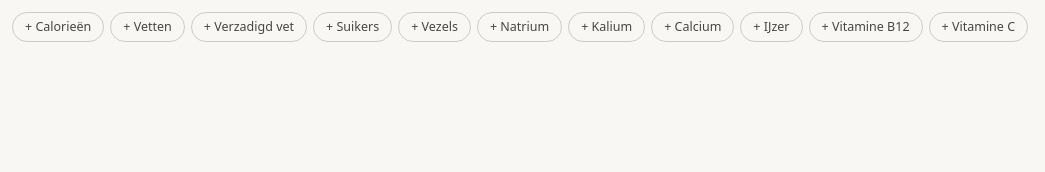
GevolgdeStoffenKiezer › springt terug en toont de fout als opslaan mislukt
The width and height of the screenshot is (1045, 172).
Step 1. Click the button "+ Vezels" → click(435, 27), box [398,12,471,42]
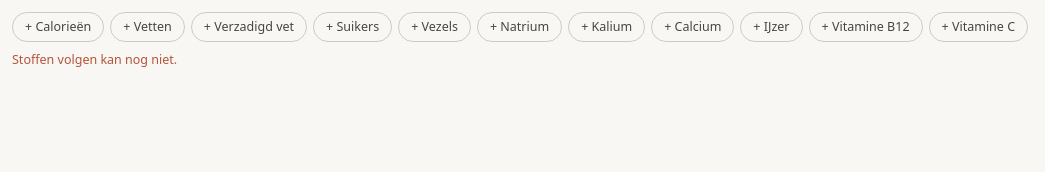
Expected: the message reads "Stoffen volgen kan nog niet.", [12,51,177,68]
